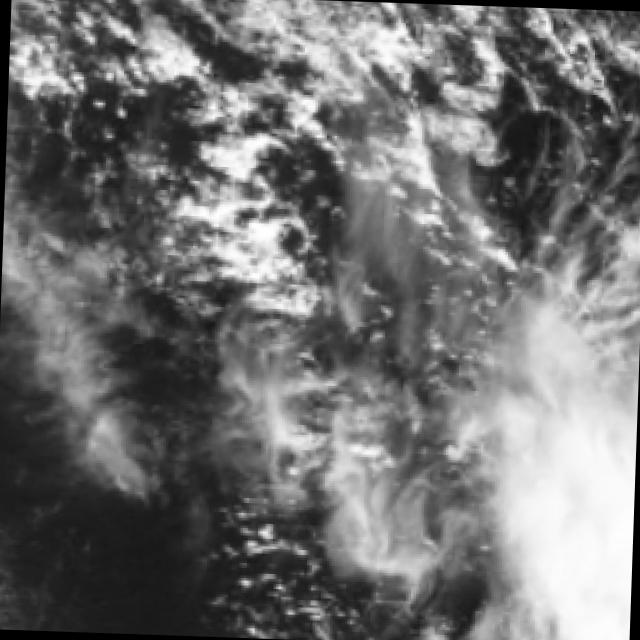CB: (499, 467, 635, 640), (510, 322, 640, 499)
